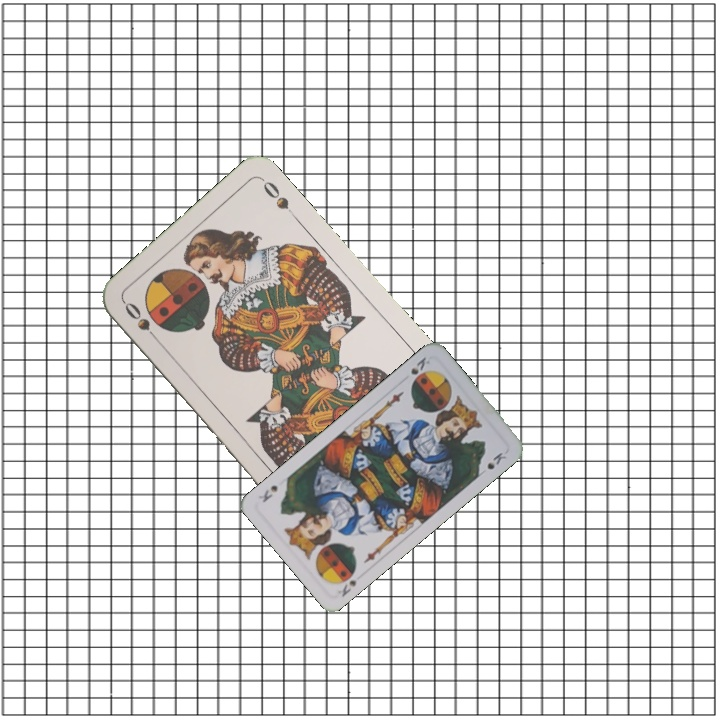SK: (407, 353, 433, 378), (334, 576, 359, 600)
SO: (120, 298, 163, 347)
